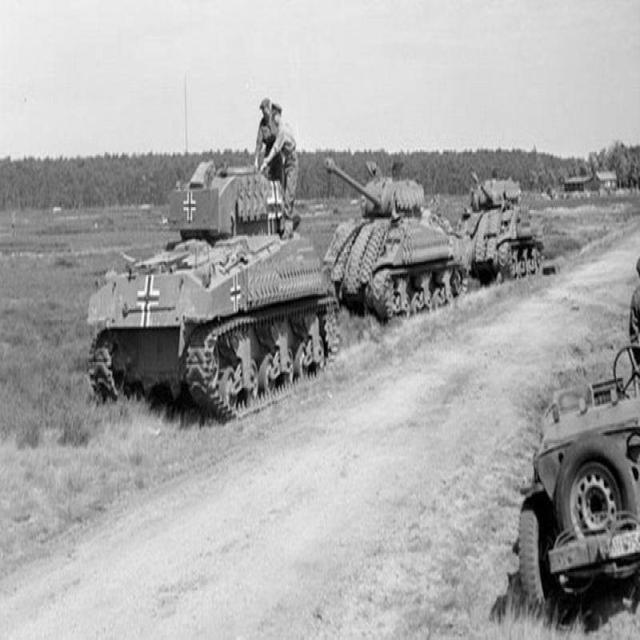Tanks: (82, 164, 322, 400), (321, 141, 452, 301), (460, 164, 562, 275)
